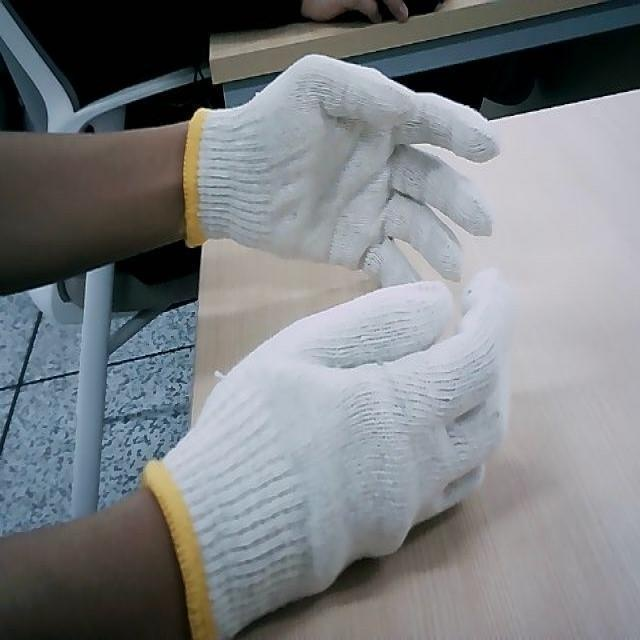Guantes: (78, 290, 588, 604), (166, 75, 476, 280)
